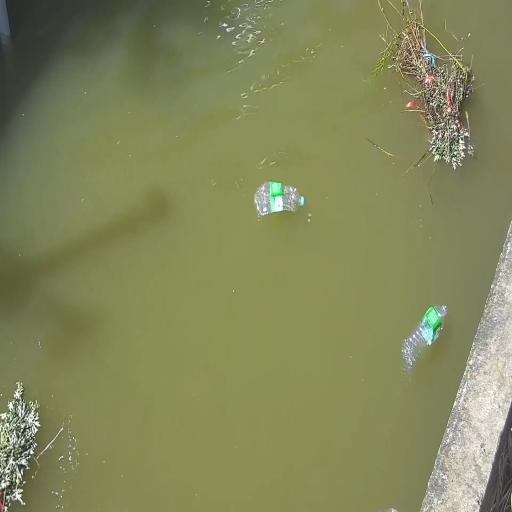plastic: (402, 306, 446, 371), (254, 182, 304, 217), (300, 196, 304, 206)
twig: (373, 13, 474, 169), (0, 383, 40, 512)
